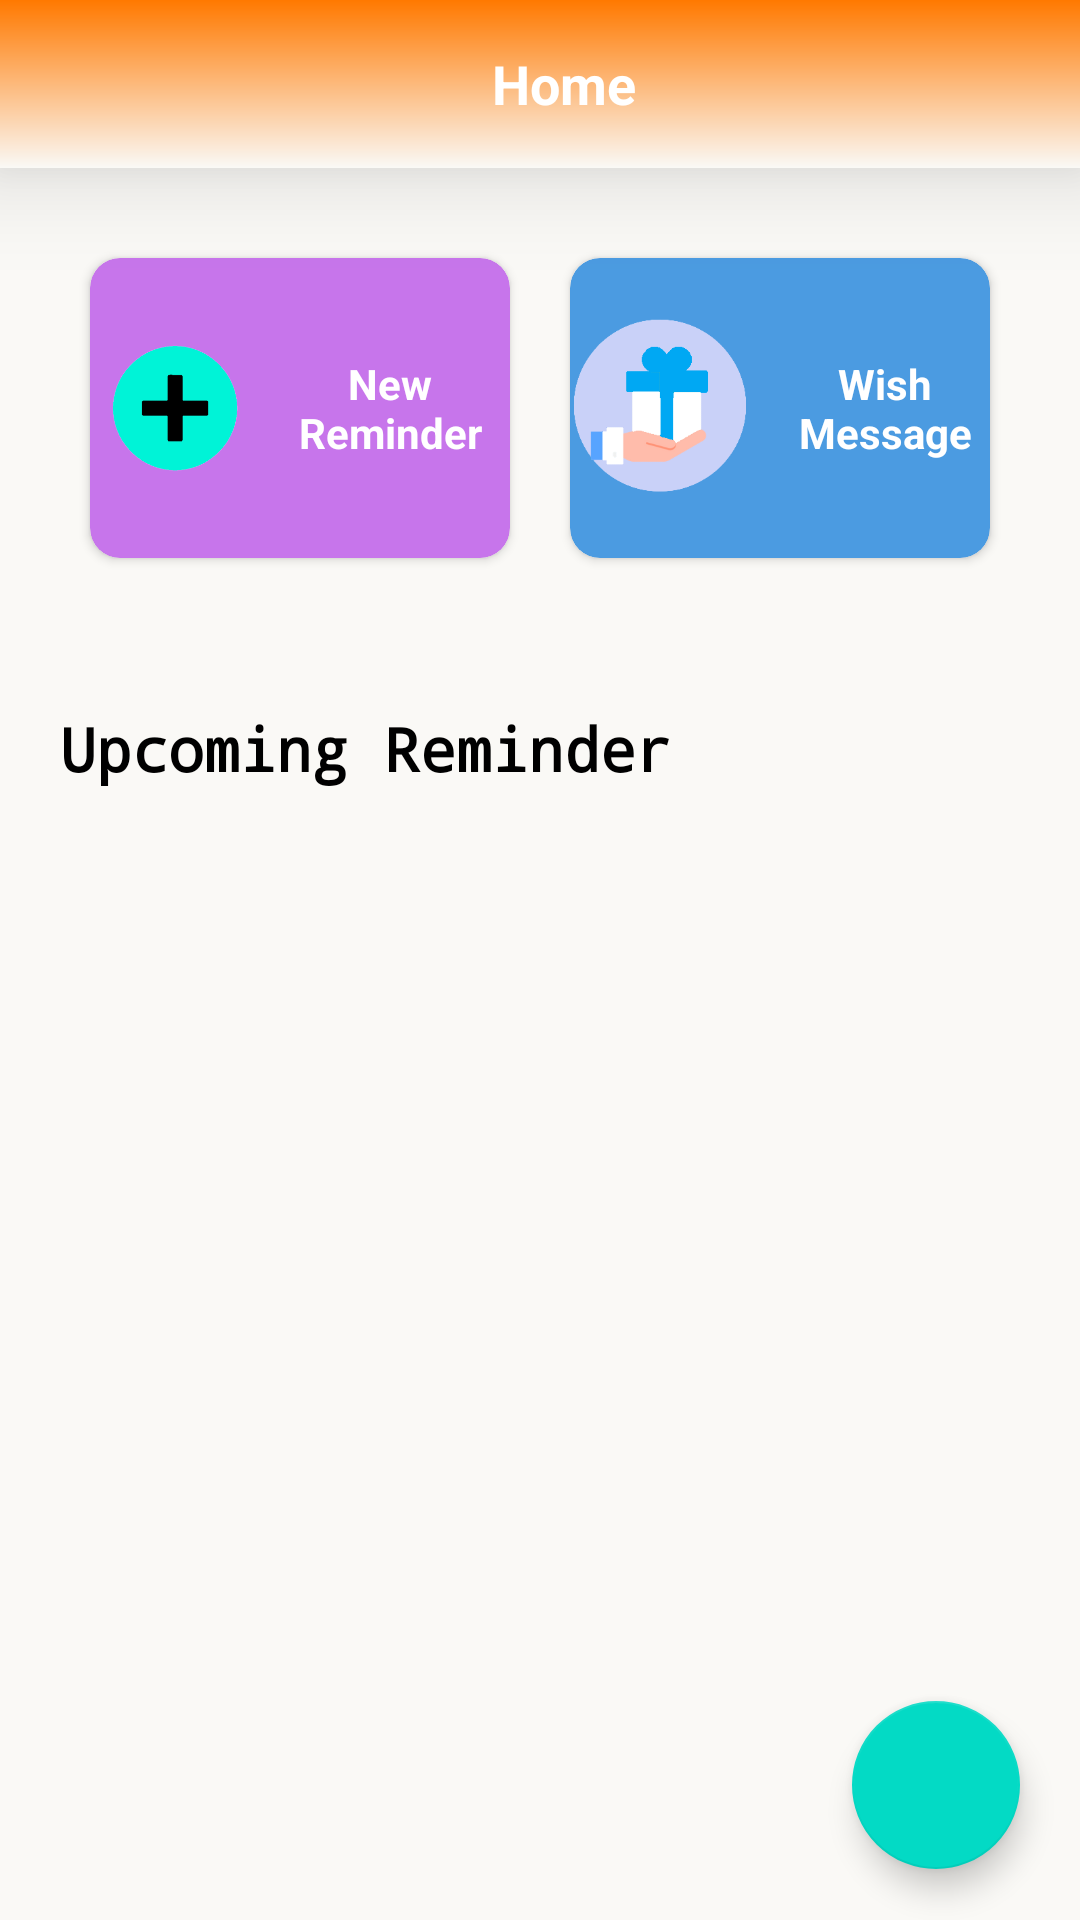

Screen size 1080px x 1920px. Icon name, then its center in pixels as [x,y]:
gift: [660,408]
plus: [180,408]
